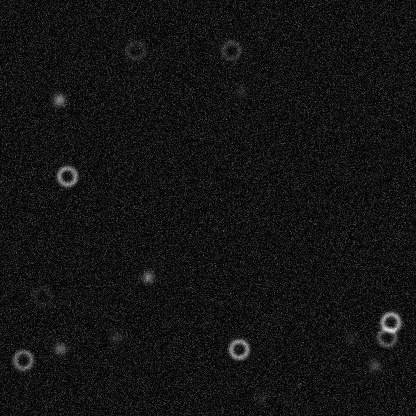Ring: (54, 164, 78, 188), (30, 284, 54, 308), (10, 347, 34, 371), (378, 310, 402, 334), (226, 337, 250, 361), (374, 324, 398, 348), (123, 38, 147, 62), (219, 38, 243, 62)
Spot: (52, 340, 68, 356), (107, 329, 123, 345), (253, 390, 269, 406), (365, 357, 381, 373), (139, 268, 155, 284), (342, 330, 358, 346), (50, 91, 66, 107), (233, 83, 249, 99)
